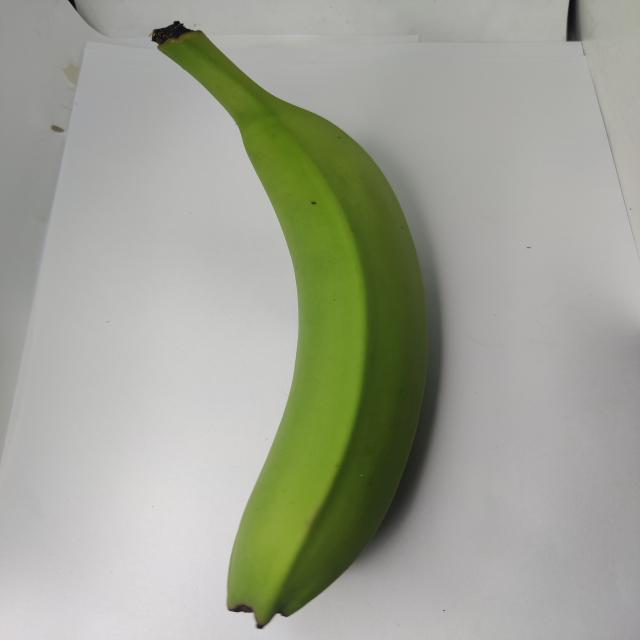raw: (120, 16, 452, 632)
